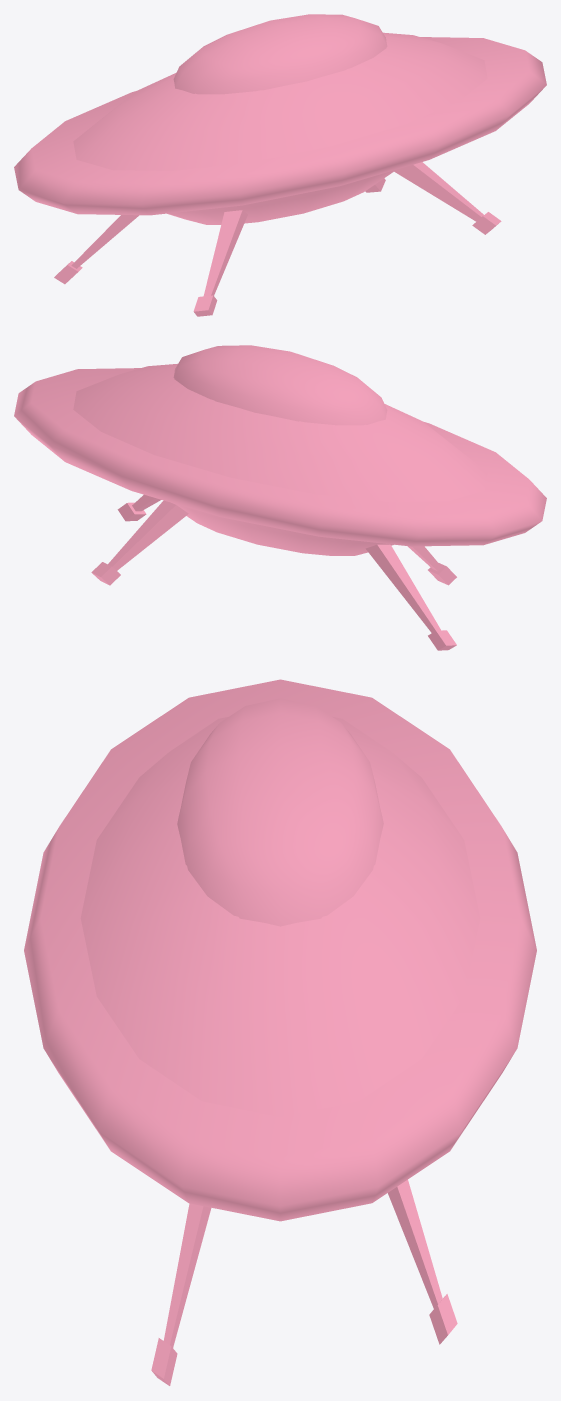
3 views of the same model, one above another, from view 1: azimuth 30°, elevation 25°; view 2: azimuth 150°, elevation 25°; view 3: azimuth 270°, elevation 25° (orthographic). The views are drawn at different scales.
Visible parts, largest first — view 1: Mesh.117; view 2: Mesh.117; view 3: Mesh.117.
Boxes of the visible parts, box(x1,y1,x2,y2) form: Mesh.117: box(14, 14, 546, 316); Mesh.117: box(14, 345, 546, 650); Mesh.117: box(24, 679, 536, 1385).
Size of what is drawn, in the model's own units: 5.43 by 2.28 by 2.3.
1 material, 1 textured.
